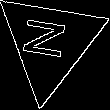N_E: (23, 19, 77, 67)
